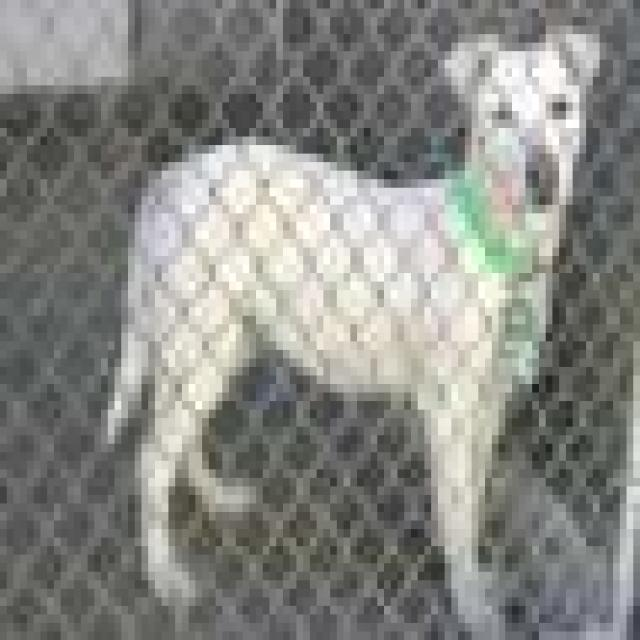dog: (94, 17, 600, 632)
